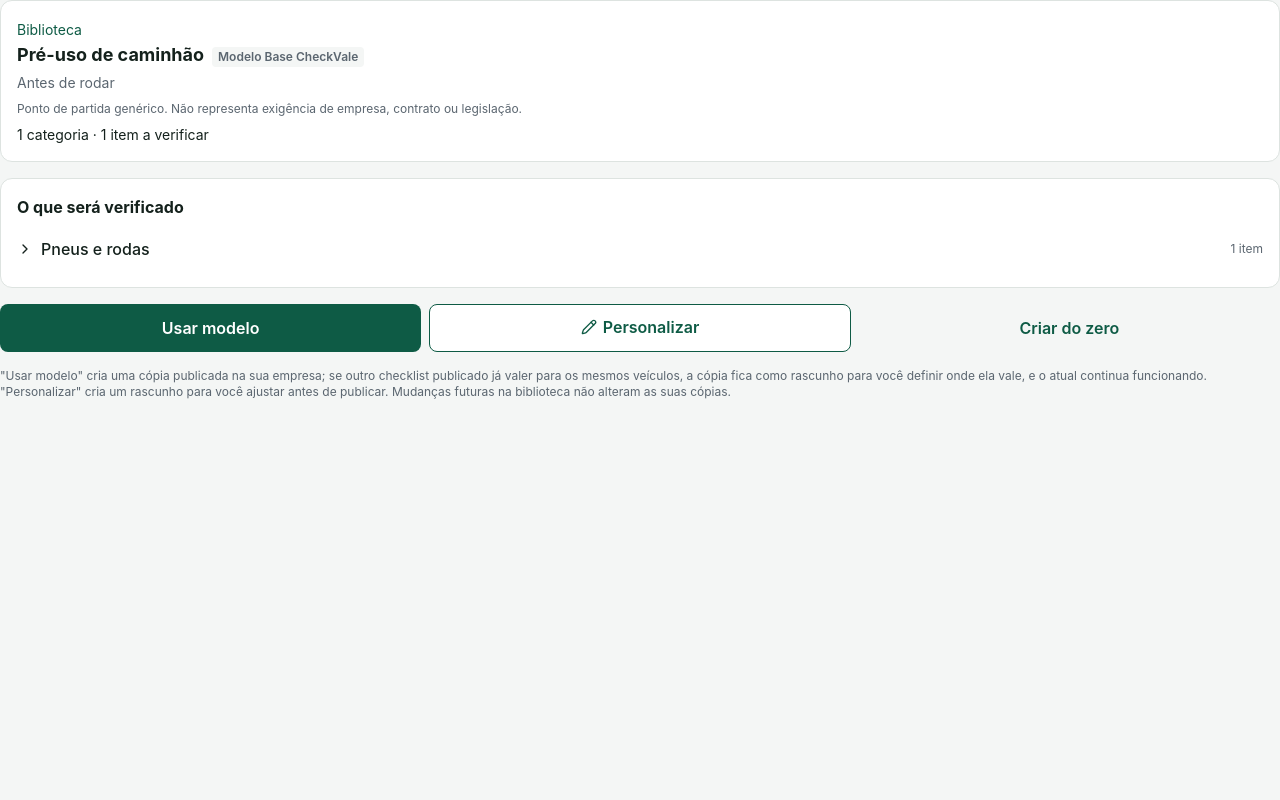
it: biblioteca de checklists › usar modelo com conflito vira rascunho e o editor explica que o atual segue valendo
This screenshot has width=1280, height=800.
Click the button "Usar modelo": [211, 328] box [0,304,421,352]
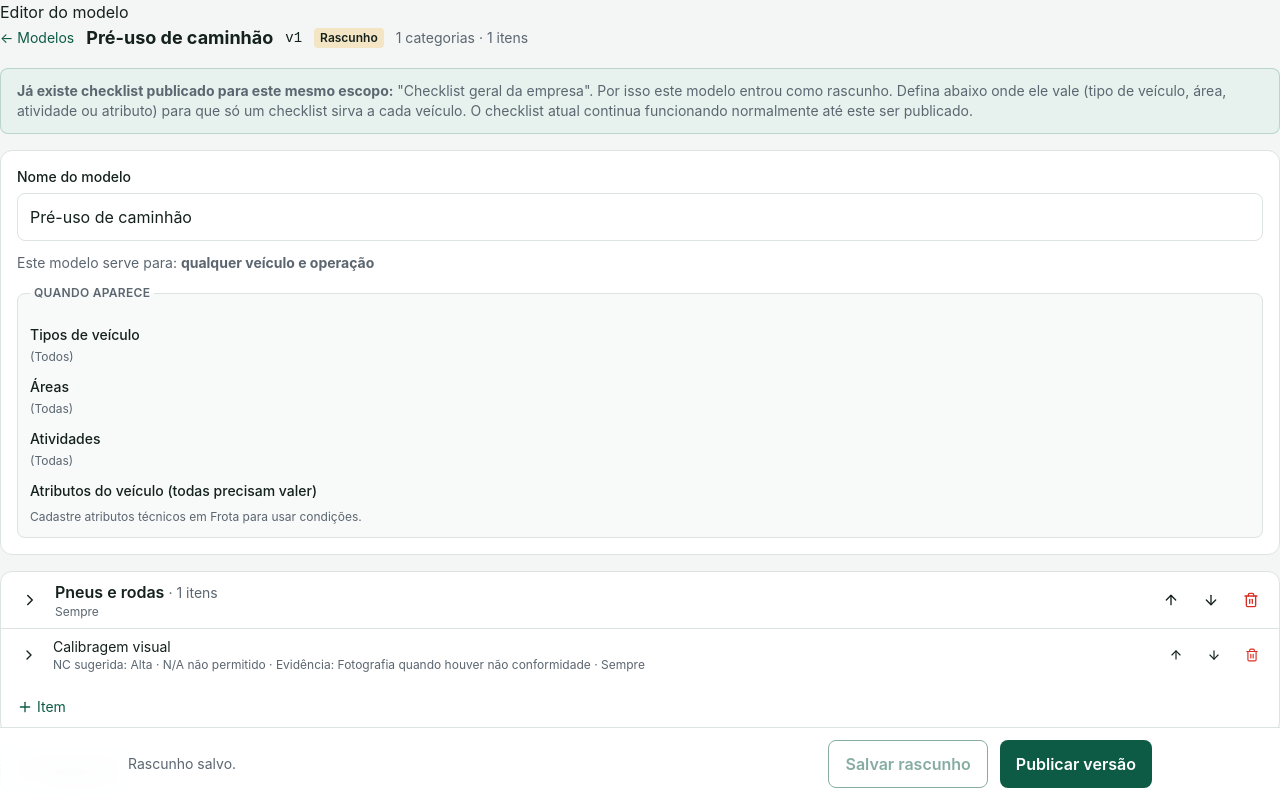
Check: the text "Já existe checklist publicado para este mesmo escopo:" is shown, box [17,82,393,99]
Check: the text "continua funcionando normalmente" is shown, box [470,102,973,119]
